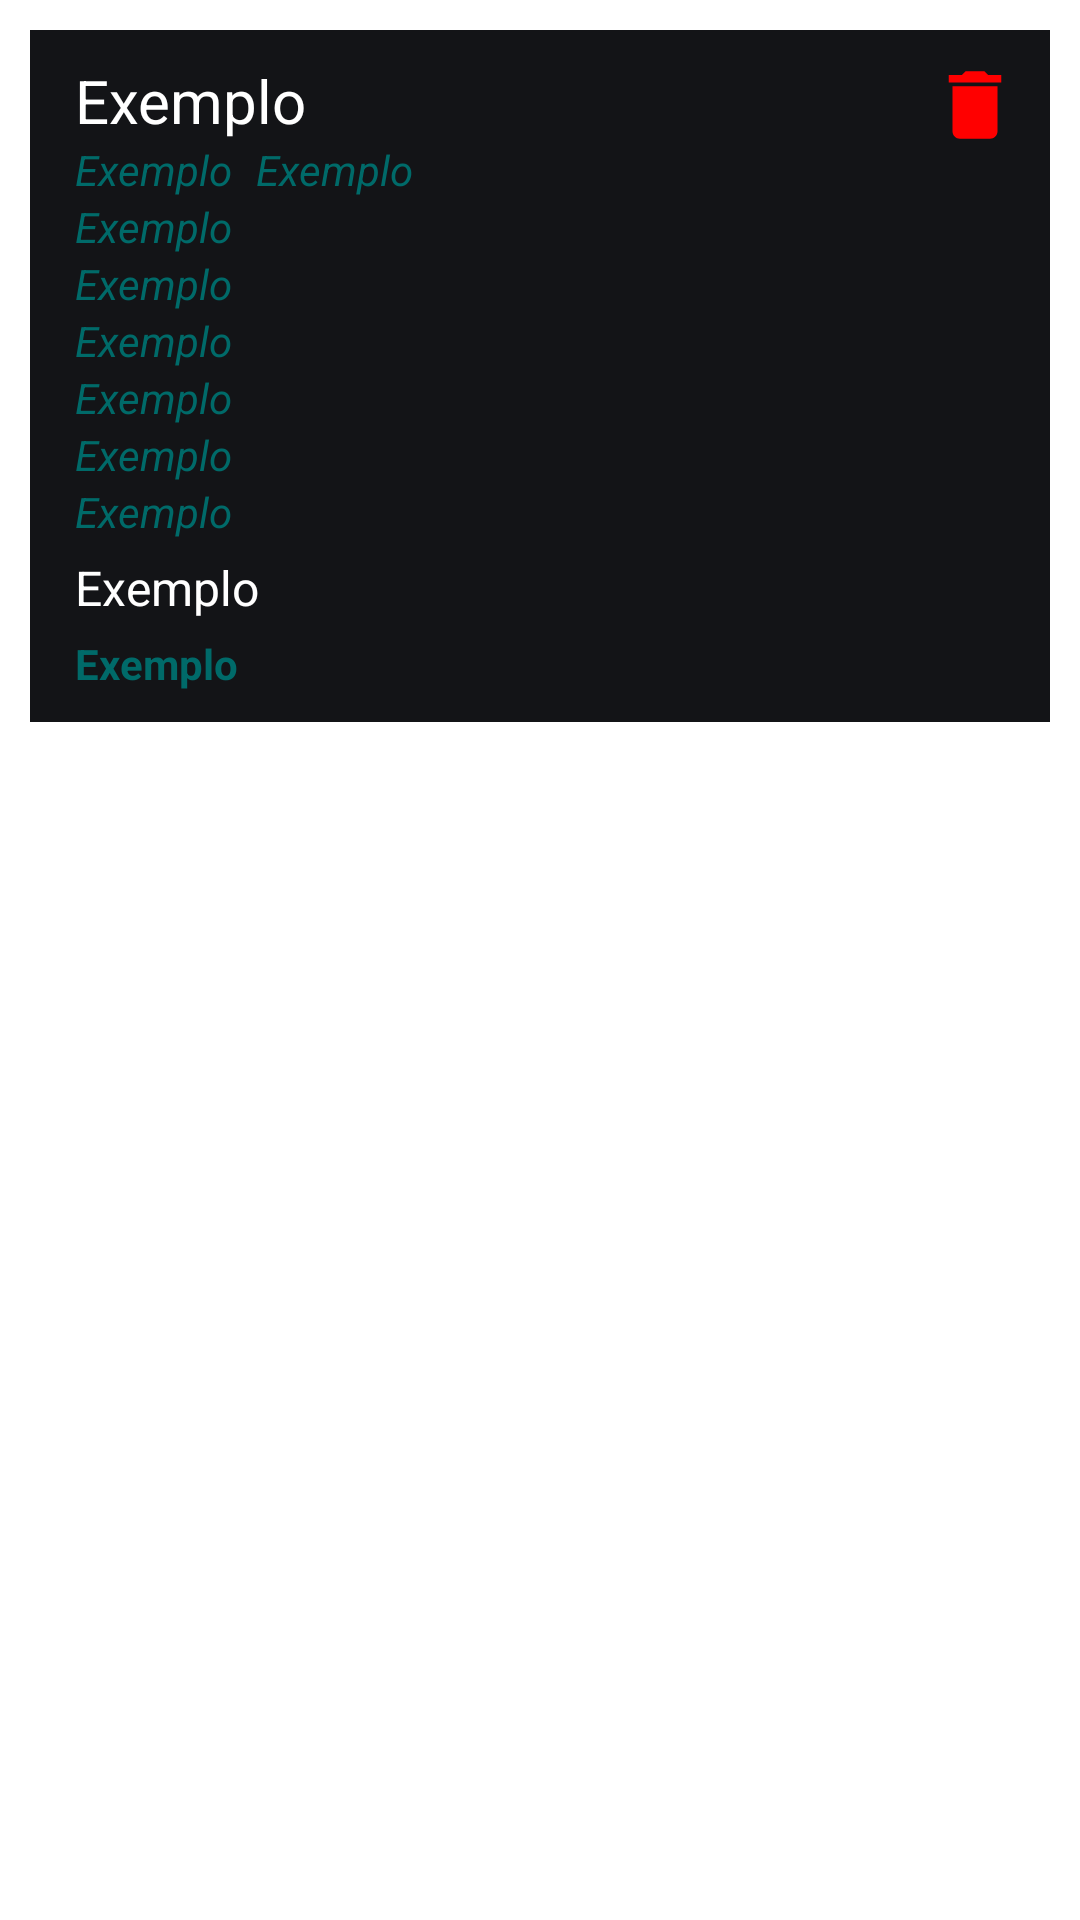

Where to tap for icons on this 1080w x 1920h app screen, as point (x, y):
delete: point (975, 105)
